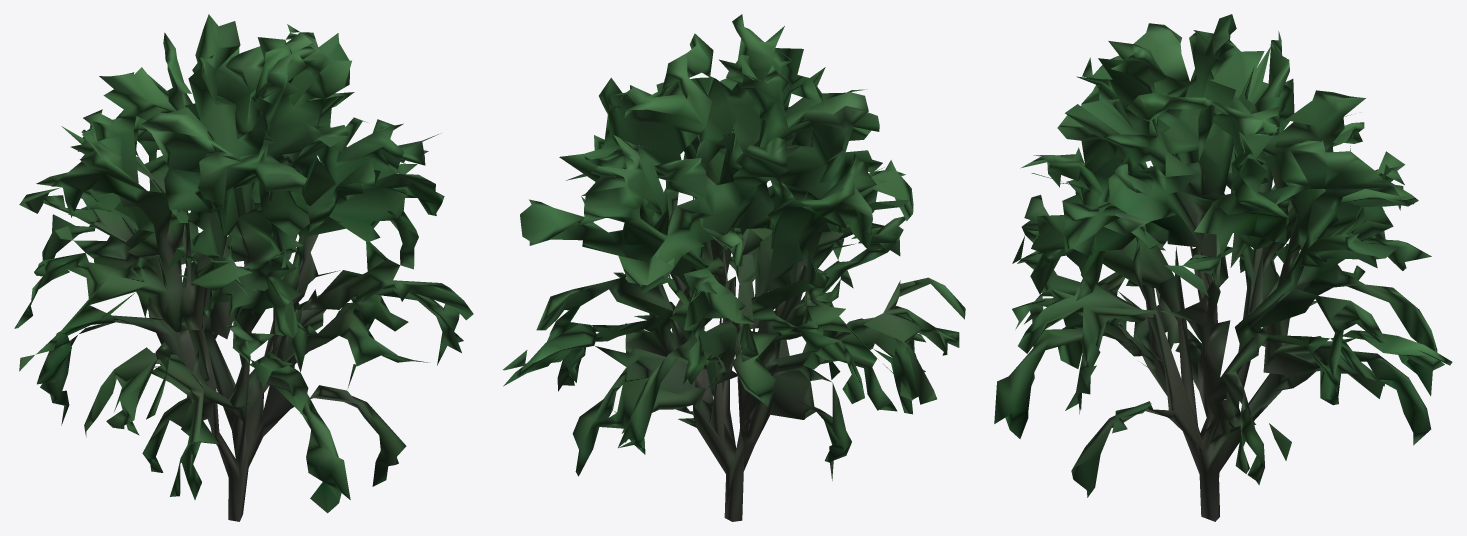
The model's file is bush_near.glb.
3 renders of one model, left to right at view 1: azimuth 30°, elevation 25°; view 2: azimuth 150°, elevation 25°; view 3: azimuth 270°, elevation 25°, orthographic. The views are drawn at different scales.
Parts seen in each view (by area): view 1: bush; view 2: bush; view 3: bush.
Boxes of the visible parts, x1=… form: bush: x1=14, y1=14, x2=473, y2=521; bush: x1=503, y1=14, x2=965, y2=521; bush: x1=994, y1=14, x2=1452, y2=521.
Size of the model in its own units: 0.8204 by 1 by 0.8384.
